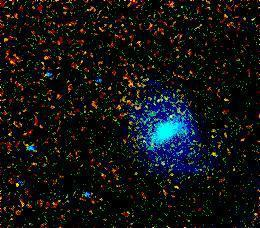star: (146, 84, 176, 114)
